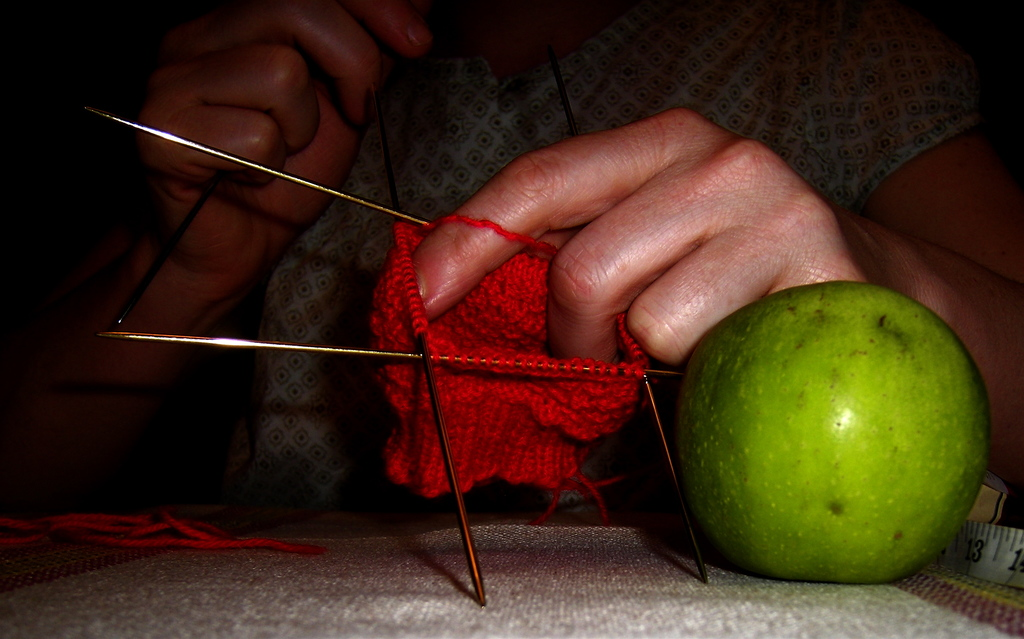Apple: (668, 299, 979, 593)
